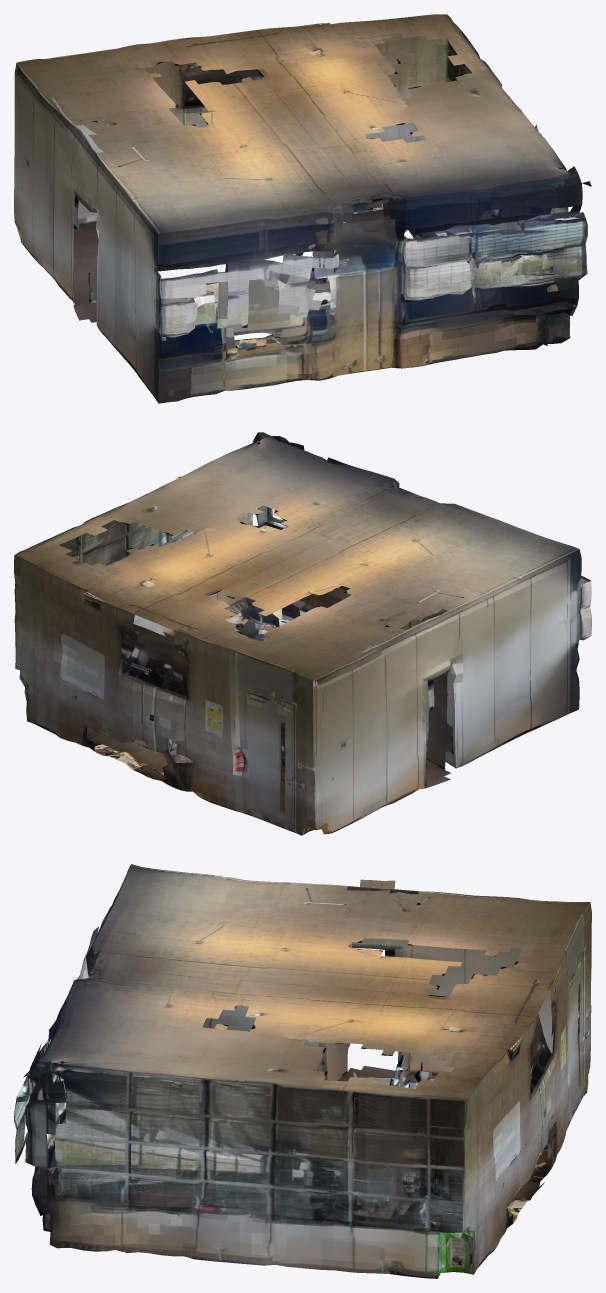
The picture shows the model from 3 angles, top to bottom: view 1: azimuth 30°, elevation 25°; view 2: azimuth 150°, elevation 25°; view 3: azimuth 270°, elevation 25°; orthographic projection. The views are drawn at different scales.
Parts seen in each view (by area): view 1: 2_m205-IM; view 2: 2_m205-IM; view 3: 2_m205-IM.
Part boxes in pixels (bbox=[...]): 2_m205-IM: bbox=[14, 14, 591, 403]; 2_m205-IM: bbox=[14, 432, 591, 835]; 2_m205-IM: bbox=[14, 864, 591, 1278].
Size of the model in its own units: 876 by 342 by 897.
Materials: 1 (1 with a texture image).
